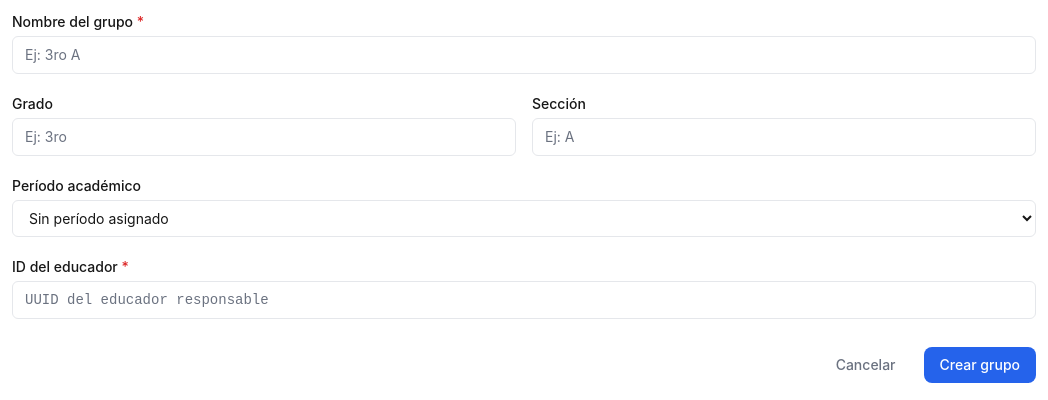
Test: GrupoForm › debería deshabilitar el botón mientras se envía el formulario
Type "3ro A" into the field labelled "Nombre del grupo *" at (524, 55), box [12,36,1036,74]
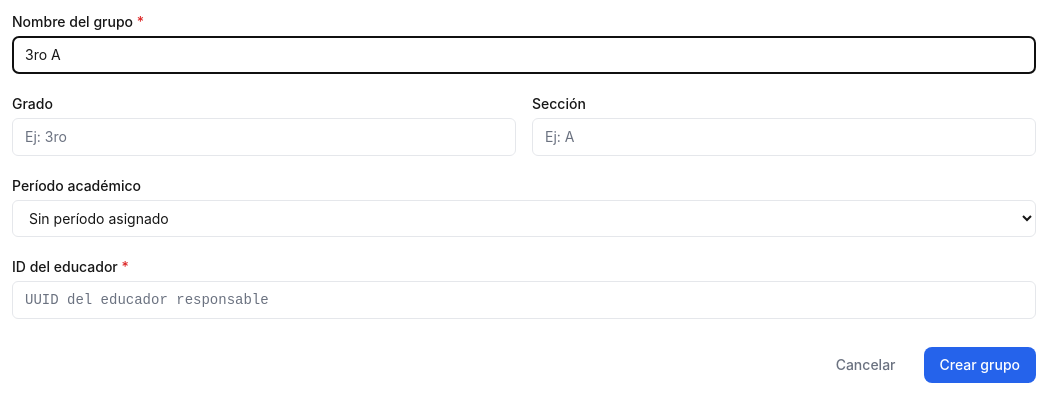
Select "2025 - Primer Semestre" in the dropdown labelled "Período académico" at (524, 218), box [12,200,1036,237]
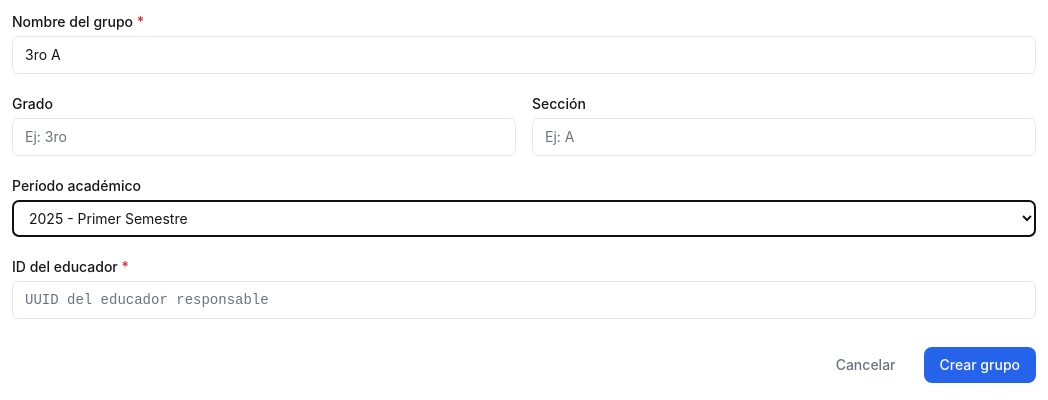
Type "educador-uuid-123" into the field labelled "ID del educador *" at (524, 300), box [12,281,1036,319]
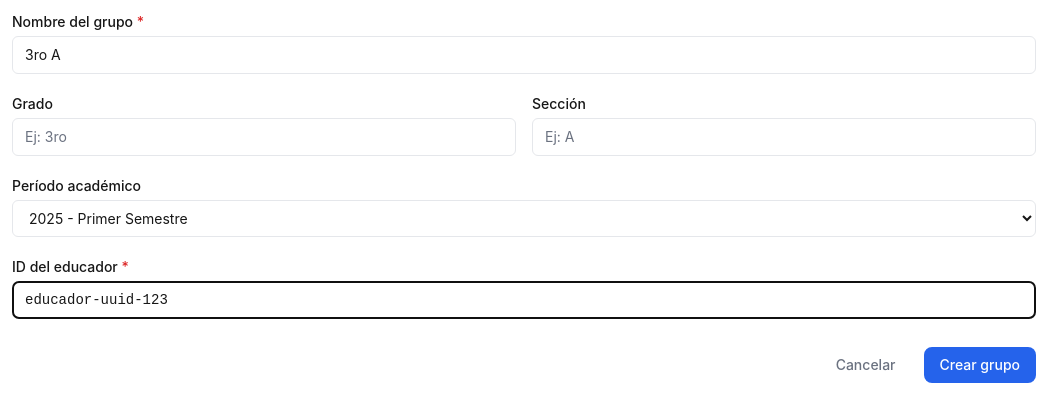
Click the button "Crear grupo" at (980, 365), box [924,347,1036,383]
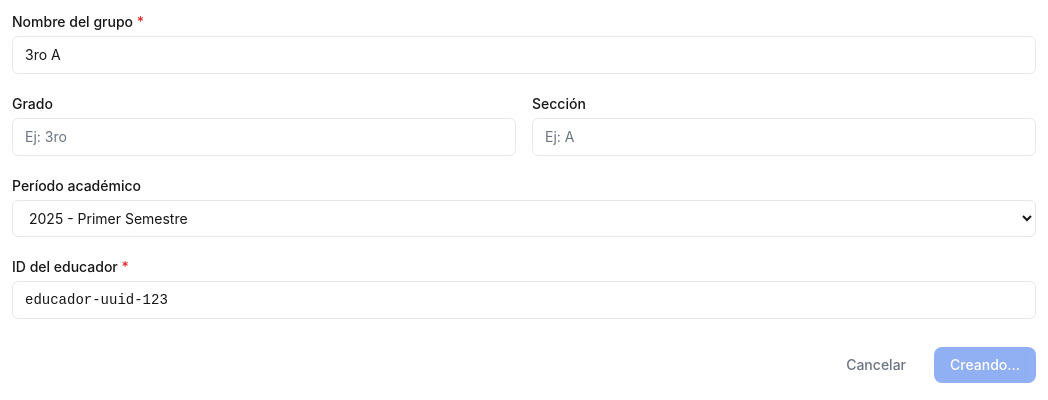
Result: the button named "crear grupo" is disabled at [934,347,1036,383]
